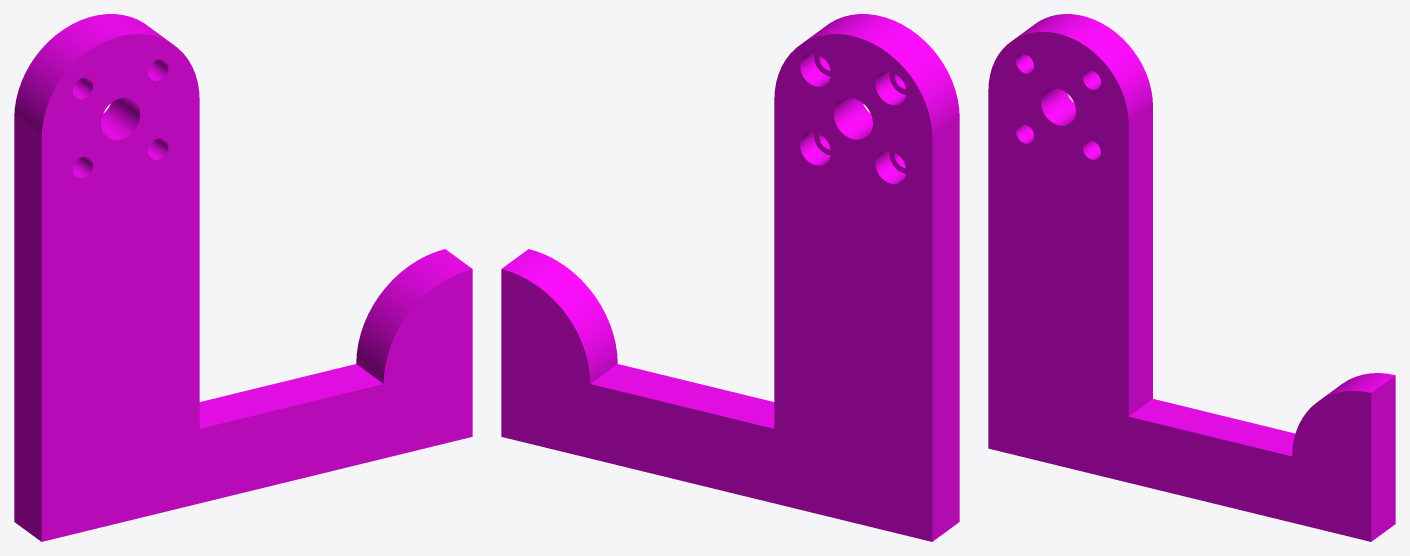
The model's file is _2025_Lunabotics_Hopper_Latch_Hook3.obj.
3 renders of one model, left to right at view 1: azimuth 30°, elevation 25°; view 2: azimuth 150°, elevation 25°; view 3: azimuth 330°, elevation 25°, orthographic. The views are drawn at different scales.
Parts seen in each view (by area): view 1: mesh1696, mesh1703, mesh1702, mesh1699, mesh1700, mesh1704; view 2: mesh1712, mesh1703, mesh1702, mesh1699, mesh1700, mesh1704, mesh1709, mesh1695, mesh1713, mesh1711; view 3: mesh1696, mesh1701, mesh1702, mesh1700, mesh1698, mesh1704, mesh1699.
Boxes of the visible parts, left/top/right/bottom form: mesh1696: left=41, top=34, right=472, bottom=541; mesh1703: left=14, top=118, right=41, bottom=541; mesh1702: left=14, top=14, right=170, bottom=137; mesh1699: left=356, top=249, right=471, bottom=383; mesh1700: left=199, top=364, right=382, bottom=428; mesh1704: left=101, top=97, right=140, bottom=139; mesh1712: left=501, top=34, right=932, bottom=541; mesh1703: left=932, top=118, right=959, bottom=541; mesh1702: left=803, top=14, right=959, bottom=137; mesh1699: left=502, top=249, right=617, bottom=383; mesh1700: left=591, top=364, right=774, bottom=428; mesh1704: left=833, top=97, right=872, bottom=139; mesh1709: left=800, top=132, right=830, bottom=165; mesh1695: left=800, top=53, right=830, bottom=86; mesh1713: left=875, top=72, right=905, bottom=104; mesh1711: left=875, top=151, right=905, bottom=183; mesh1696: left=988, top=32, right=1371, bottom=541; mesh1701: left=1128, top=106, right=1152, bottom=416; mesh1702: left=1014, top=14, right=1152, bottom=123; mesh1700: left=1129, top=399, right=1295, bottom=456; mesh1698: left=1371, top=375, right=1395, bottom=541; mesh1704: left=1041, top=88, right=1075, bottom=125; mesh1699: left=1319, top=373, right=1394, bottom=400.
Bounding box in the file's own units: 0.0922 × 0.0994 × 0.0102.
